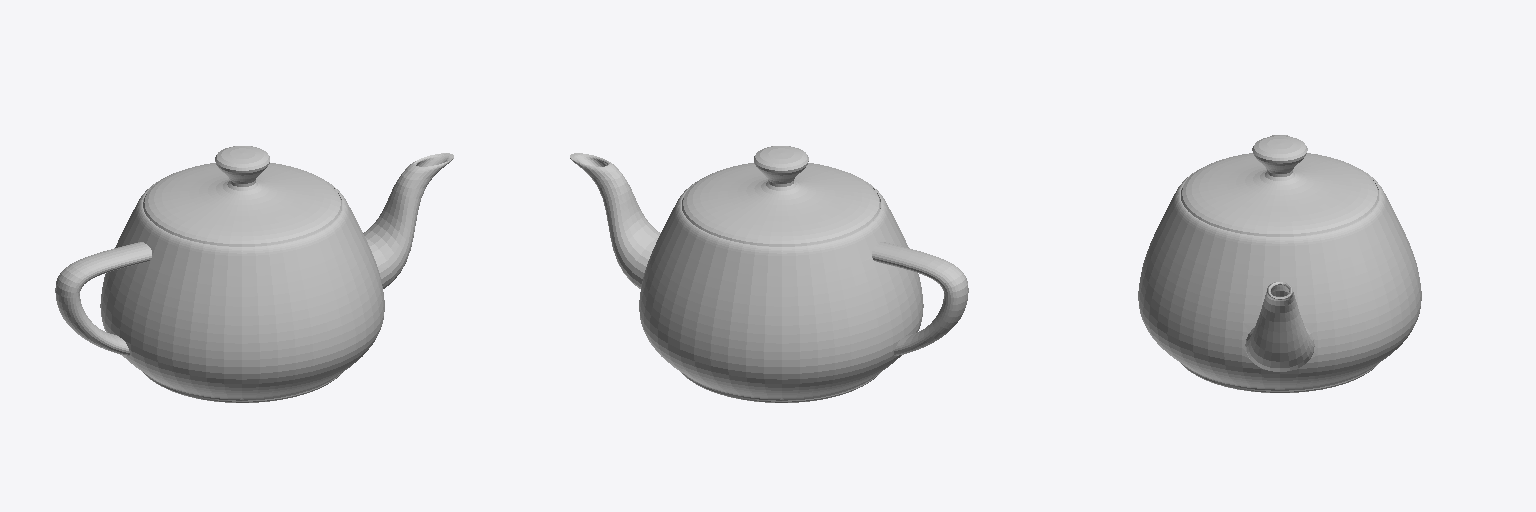
Rendered from Teapot.obj.
3 views of the same model, side by side, from view 1: azimuth 30°, elevation 25°; view 2: azimuth 150°, elevation 25°; view 3: azimuth 270°, elevation 25° (orthographic).
Visible parts, largest first — view 1: Teapot; view 2: Teapot; view 3: Teapot.
Part boxes in pixels (bbox=[...]): Teapot: bbox=[55, 146, 453, 402]; Teapot: bbox=[570, 146, 968, 402]; Teapot: bbox=[1138, 135, 1421, 392].
Size of the model in its own units: 6.63 by 3.4 by 4.12.